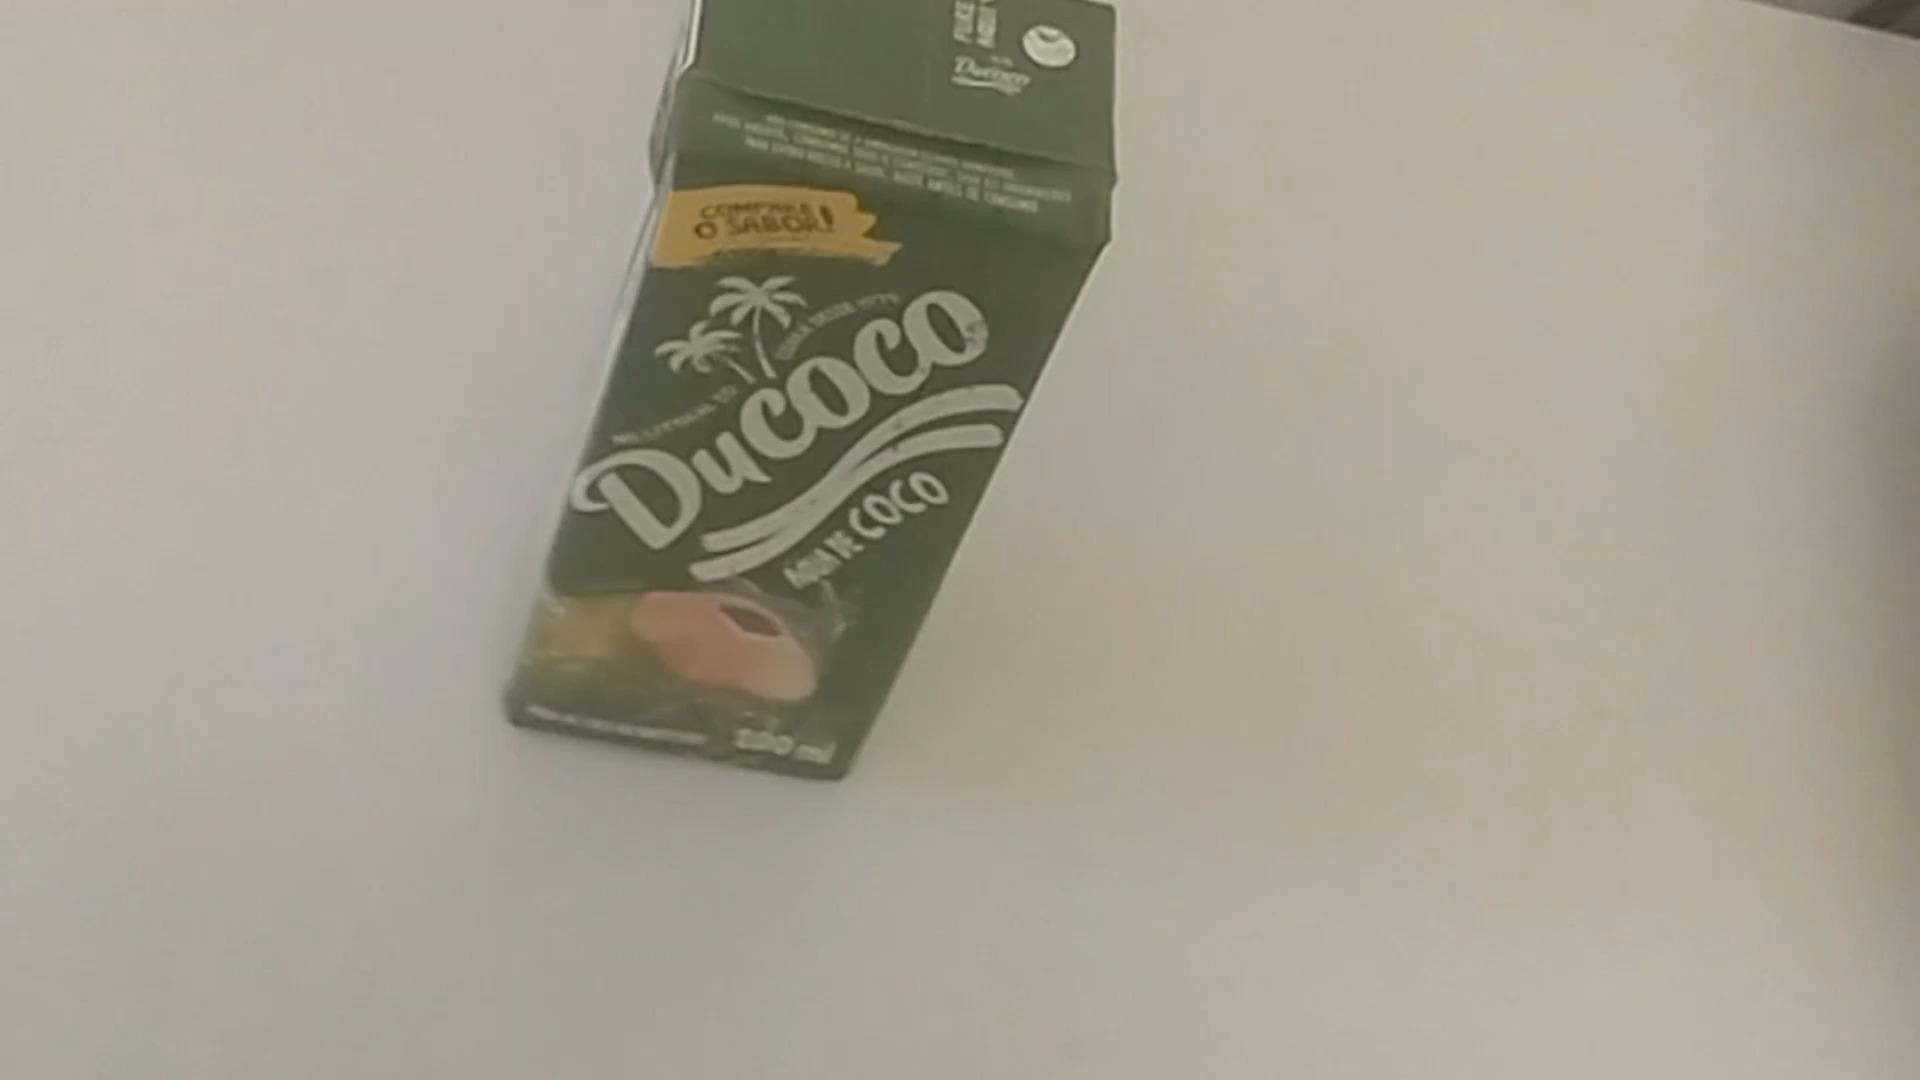coco: (498, 1, 1116, 785)
